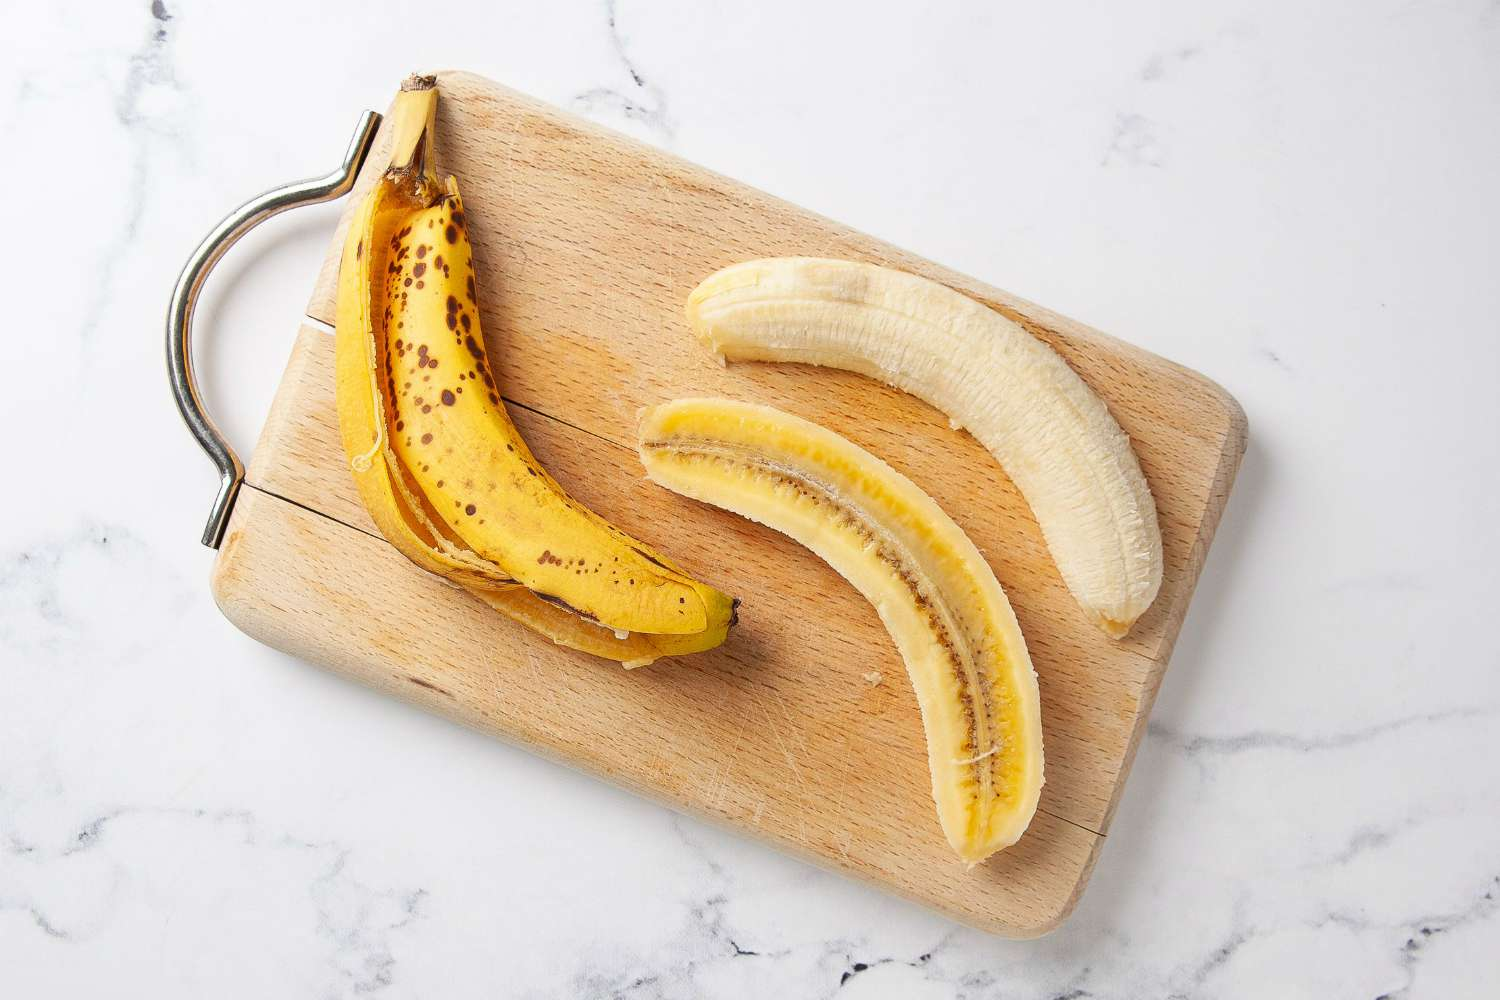banana: (336, 70, 1167, 873)
